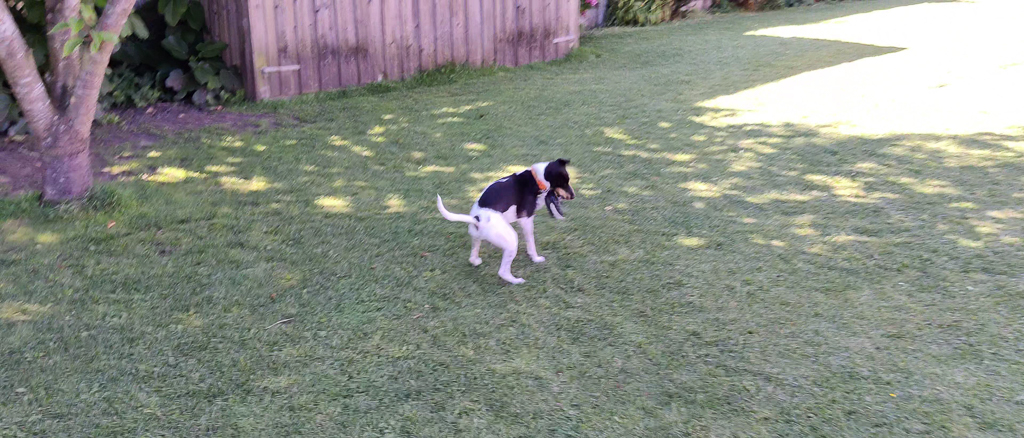Dog: (429, 139, 583, 293)
